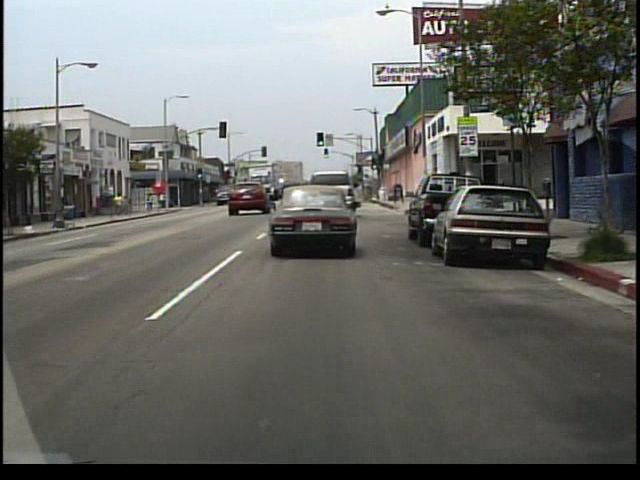person: (118, 193, 127, 218), (146, 192, 155, 212), (128, 195, 134, 216)
